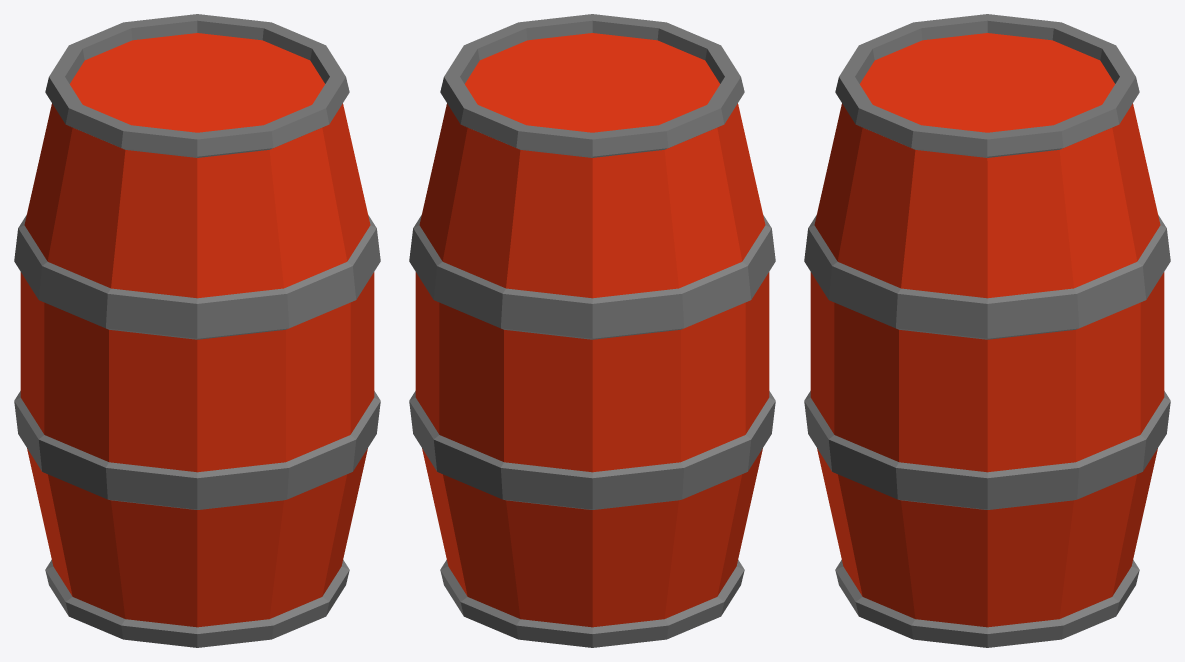
The model's file is drum_4.FBX.
3 views of the same model, side by side, from view 1: azimuth 30°, elevation 25°; view 2: azimuth 150°, elevation 25°; view 3: azimuth 270°, elevation 25° (orthographic).
Parts seen in each view (by area): view 1: drum_4; view 2: drum_4; view 3: drum_4.
Part boxes in pixels (<box>): drum_4: <box>14,14,380,647</box>; drum_4: <box>409,14,775,647</box>; drum_4: <box>804,14,1170,647</box>.
Bounding box in the file's own units: 0.4867 × 0.7448 × 0.4867.
1 material, 1 textured.
